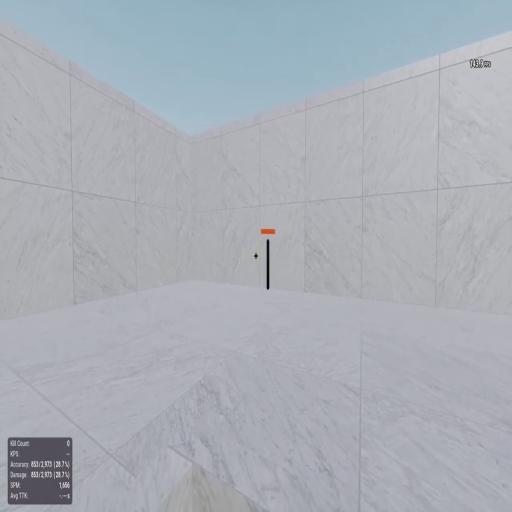Crosshair: (254, 252, 258, 261)
Target: (266, 240, 270, 289)
